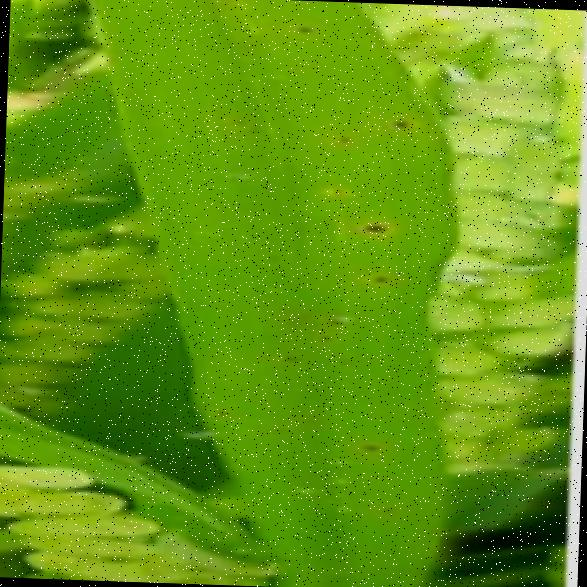Brown_Spot: (316, 173, 356, 202), (368, 496, 404, 527), (354, 212, 394, 239), (283, 13, 321, 38), (360, 262, 394, 288), (328, 124, 360, 149), (384, 108, 416, 132), (274, 342, 304, 366), (328, 348, 358, 372), (318, 306, 346, 331), (354, 432, 384, 455), (209, 396, 233, 423), (298, 407, 326, 429), (260, 246, 286, 268), (312, 322, 334, 346), (266, 420, 288, 440), (225, 111, 247, 130), (240, 120, 266, 136), (234, 33, 254, 53), (274, 156, 298, 172), (279, 146, 295, 160)
